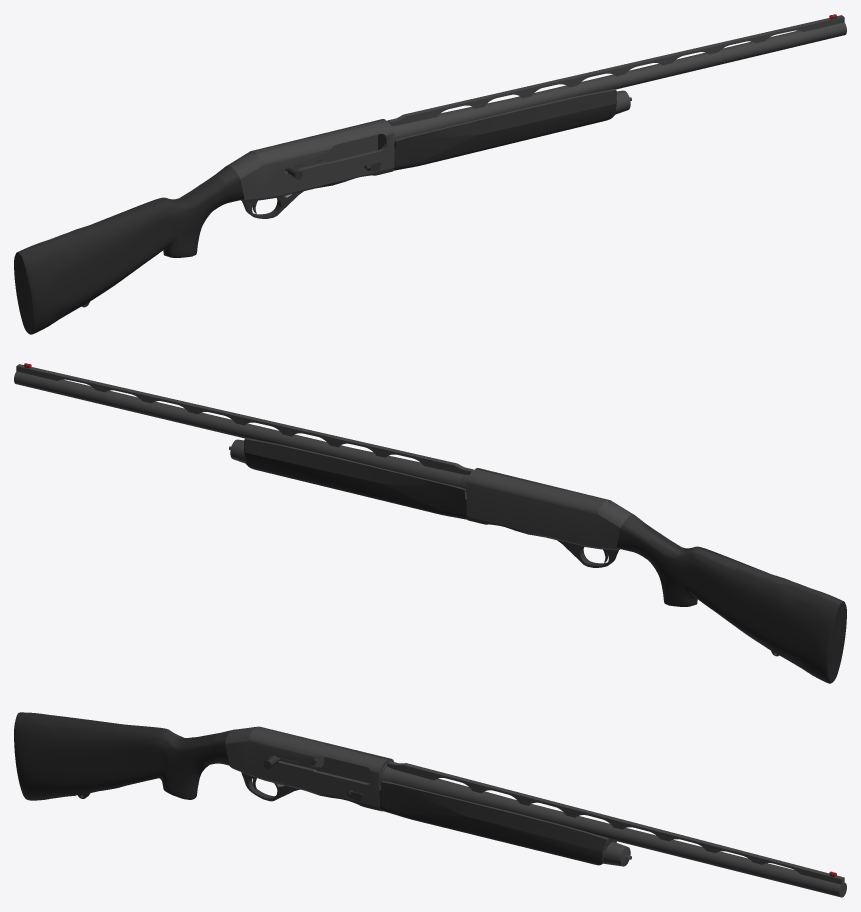
3 views of the same model, one above another, from view 1: azimuth 30°, elevation 25°; view 2: azimuth 150°, elevation 25°; view 3: azimuth 330°, elevation 25° (orthographic).
Parts seen in each view (by area): view 1: receiver lo poly; view 2: receiver lo poly; view 3: receiver lo poly.
Boxes of the visible parts, x1=… form: receiver lo poly: x1=14, y1=14, x2=846, y2=334; receiver lo poly: x1=14, y1=363, x2=846, y2=683; receiver lo poly: x1=14, y1=712, x2=846, y2=897.
Size of the model in its own units: 943 by 139 by 49.33.
Materials: 1 (1 with a texture image).
